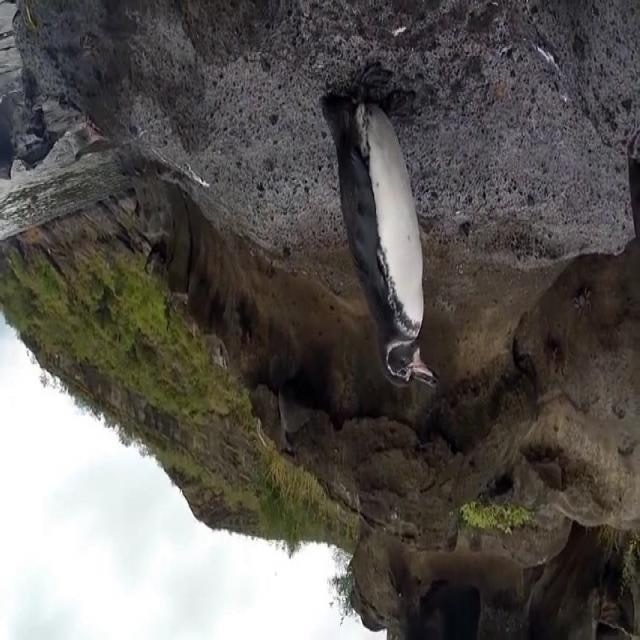penguin: (318, 63, 441, 390)
